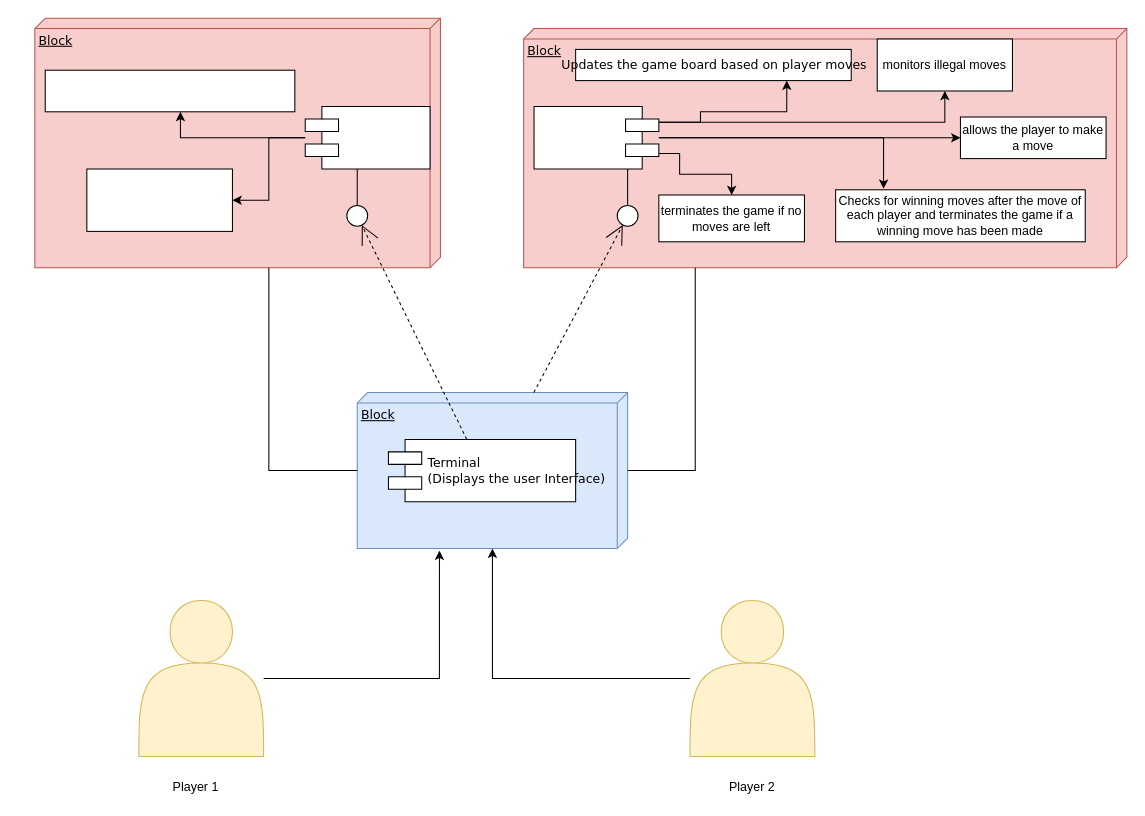
Image size: 1145x816. Some labels were removed from this diagram. The shapes that lost their labels are listed below. From the top down, each one's centre as x and y in pixels, then its label:
At pixel 169 90: "Gets details from the user to create a new game".
At pixel 367 137: "Create Game".
At pixel 596 137: "Game".
At pixel 159 199: "Deciding the first player".
